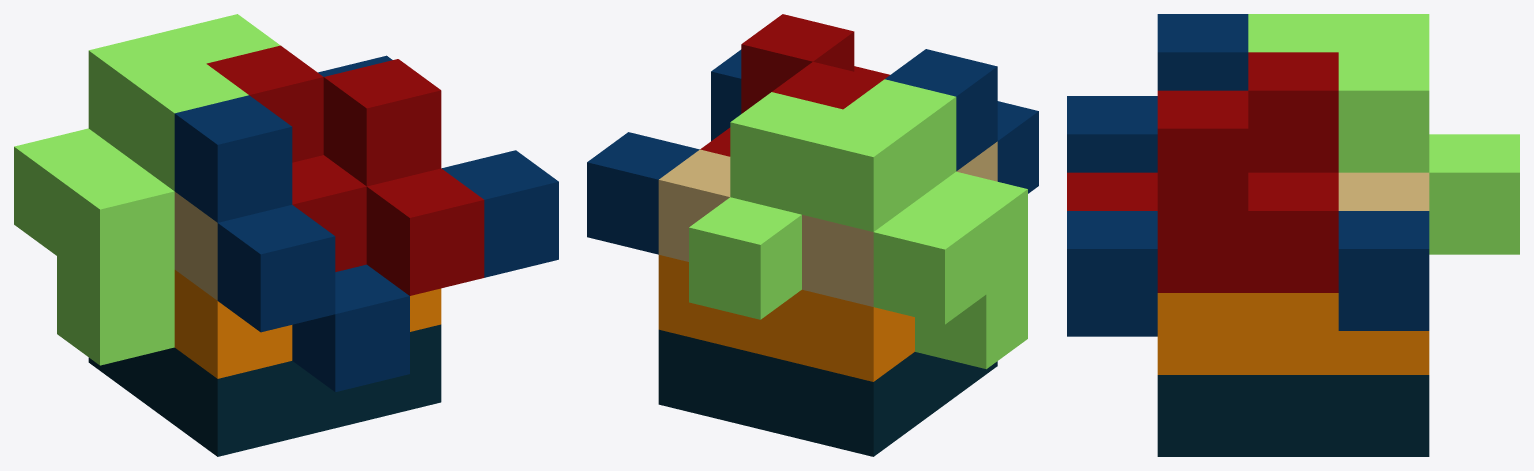
The picture shows the model from 3 angles, left to right: view 1: azimuth 30°, elevation 25°; view 2: azimuth 150°, elevation 25°; view 3: azimuth 270°, elevation 25°; orthographic projection. The views are drawn at different scales.
Parts seen in each view (by area): view 1: Layer.1; view 2: Layer.1; view 3: Layer.1.
Part boxes in pixels (x1,y1,x2,y2): Layer.1: [14, 14, 558, 456]; Layer.1: [587, 14, 1038, 456]; Layer.1: [1067, 14, 1519, 456].
Size of the model in its own units: 5 by 4 by 5.
Materials: 1 (1 with a texture image).
